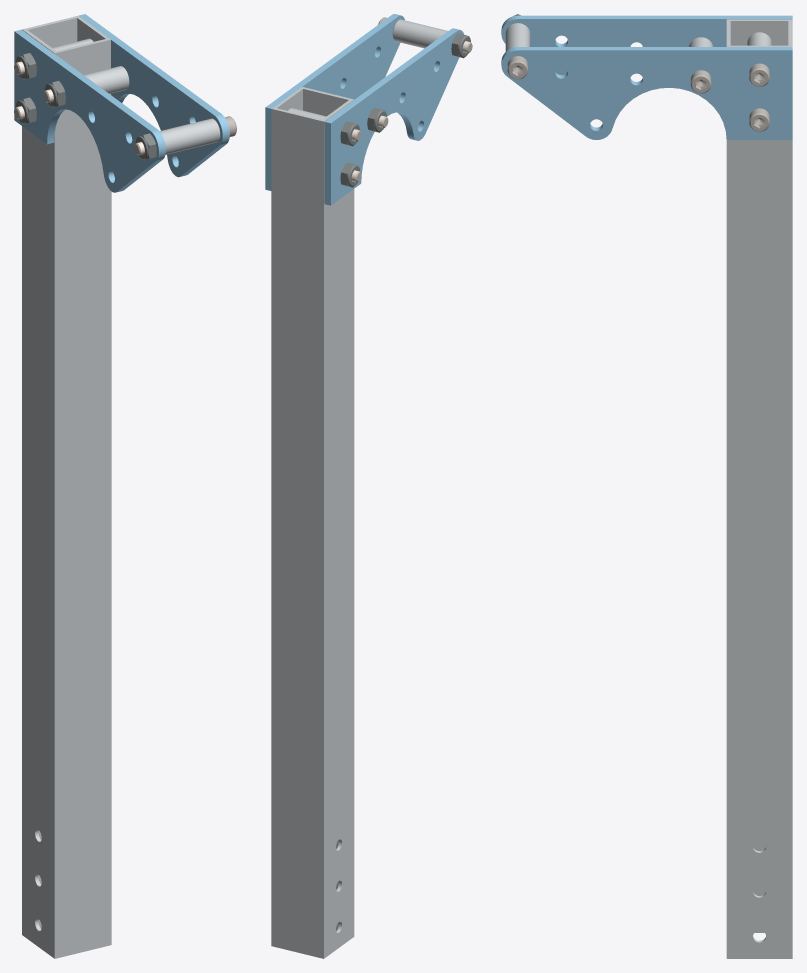
3 views of the same model, side by side, from view 1: azimuth 30°, elevation 25°; view 2: azimuth 150°, elevation 25°; view 3: azimuth 270°, elevation 25° (orthographic). The views are drawn at different scales.
Visible parts, largest first — view 1: 1x1 Simple Example Tube, Cheese wedge (×2), am-3876 1000long .192ID Aluminum Spacer (×2); view 2: 1x1 Simple Example Tube, Cheese wedge (×2), am-3876 1000long .192ID Aluminum Spacer; view 3: 1x1 Simple Example Tube, Cheese wedge (×2).
Boxes of the visible parts, x1,y1,x2,y2 form: 1x1 Simple Example Tube: [22, 16, 111, 958]; Cheese wedge (×2): [14, 14, 229, 192]; am-3876 1000long .192ID Aluminum Spacer (×2): [84, 66, 220, 154]; 1x1 Simple Example Tube: [271, 87, 354, 958]; Cheese wedge (×2): [265, 14, 463, 205]; am-3876 1000long .192ID Aluminum Spacer: [392, 19, 447, 48]; 1x1 Simple Example Tube: [726, 19, 792, 958]; Cheese wedge (×2): [501, 15, 792, 139].
Size of the model in its own units: 0.0429 by 0.3874 by 0.1121.
